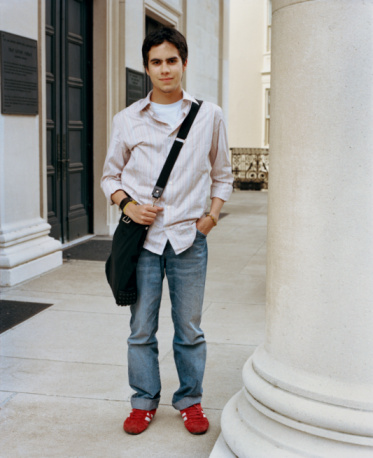em pe: (91, 21, 230, 394)
